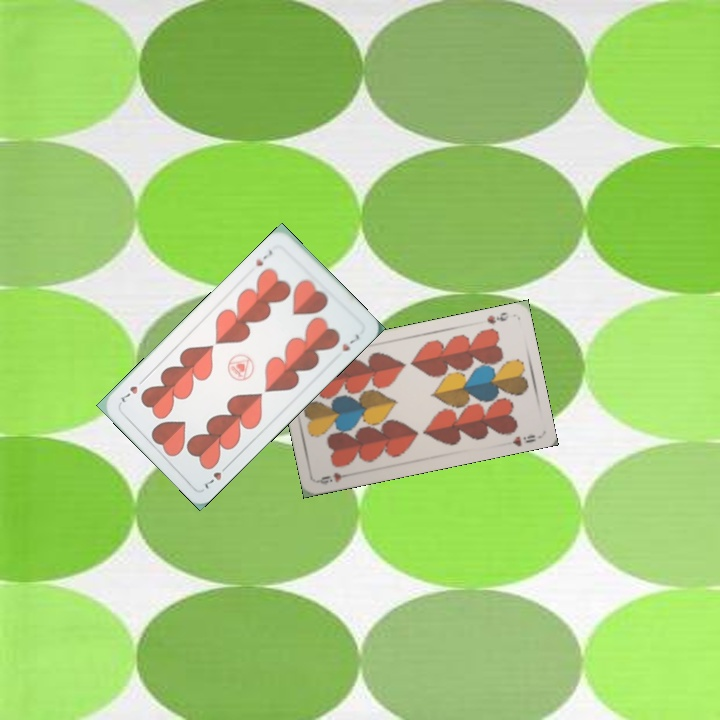H7: (200, 460, 232, 491), (252, 246, 276, 269)
H9: (315, 468, 355, 487), (483, 308, 511, 327)
